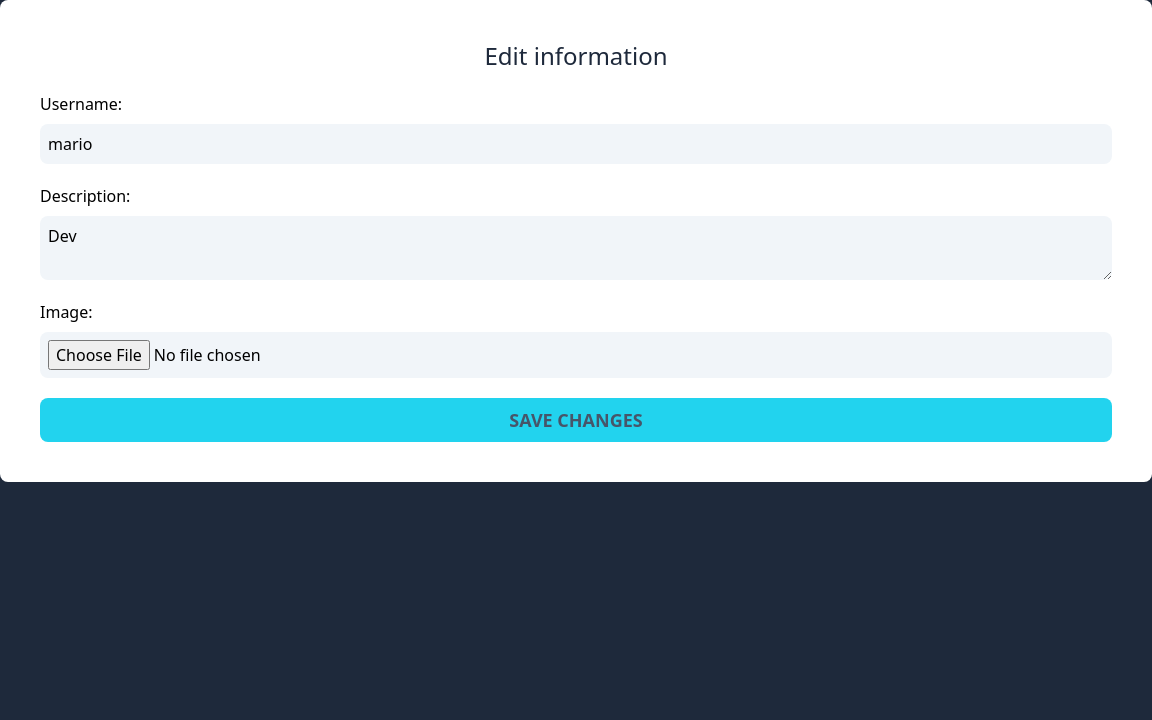
it: ProfileView › requires a username
Clear the field with placeholder "Username or handle" at [576, 144], box [40, 124, 1112, 164]
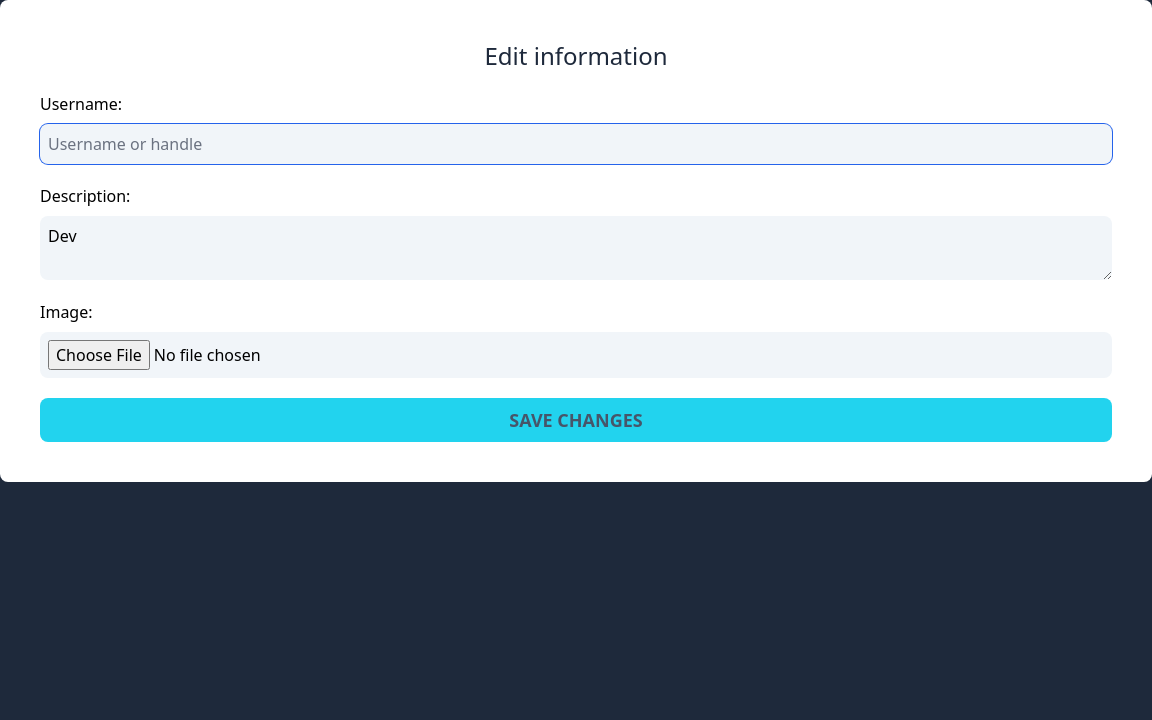
Click the button "Save changes" at [576, 420], box [40, 398, 1112, 442]
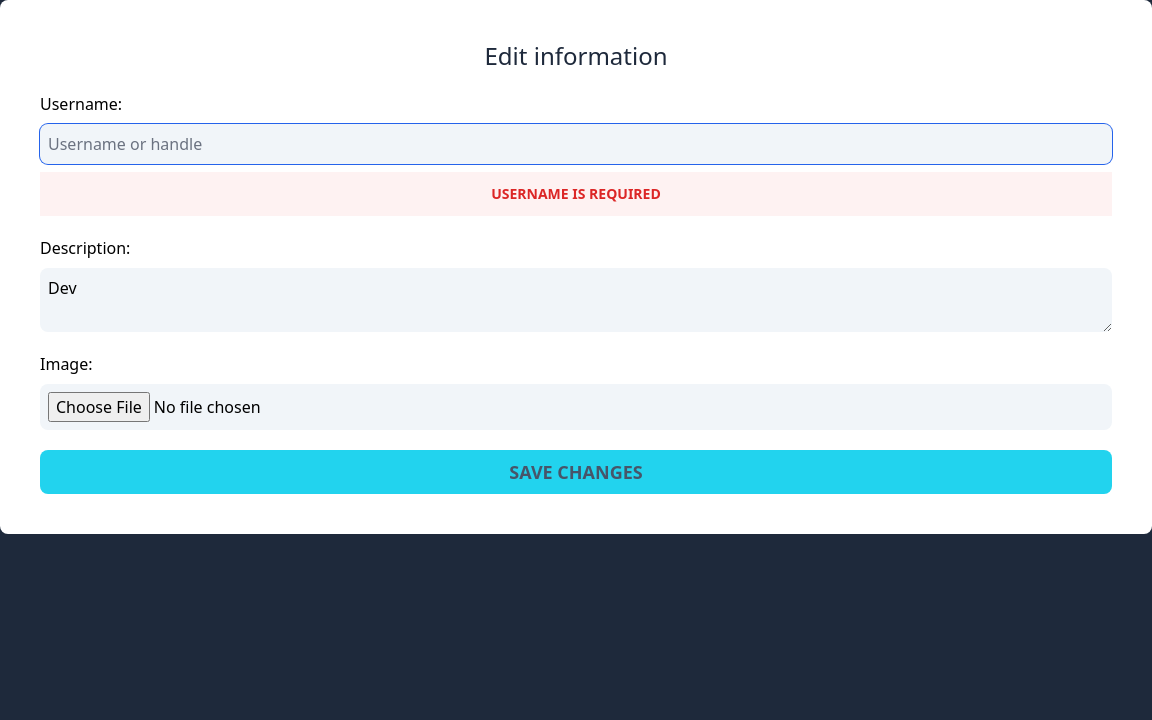
Expected: the text "Username is required" is shown, [40, 172, 1112, 216]
